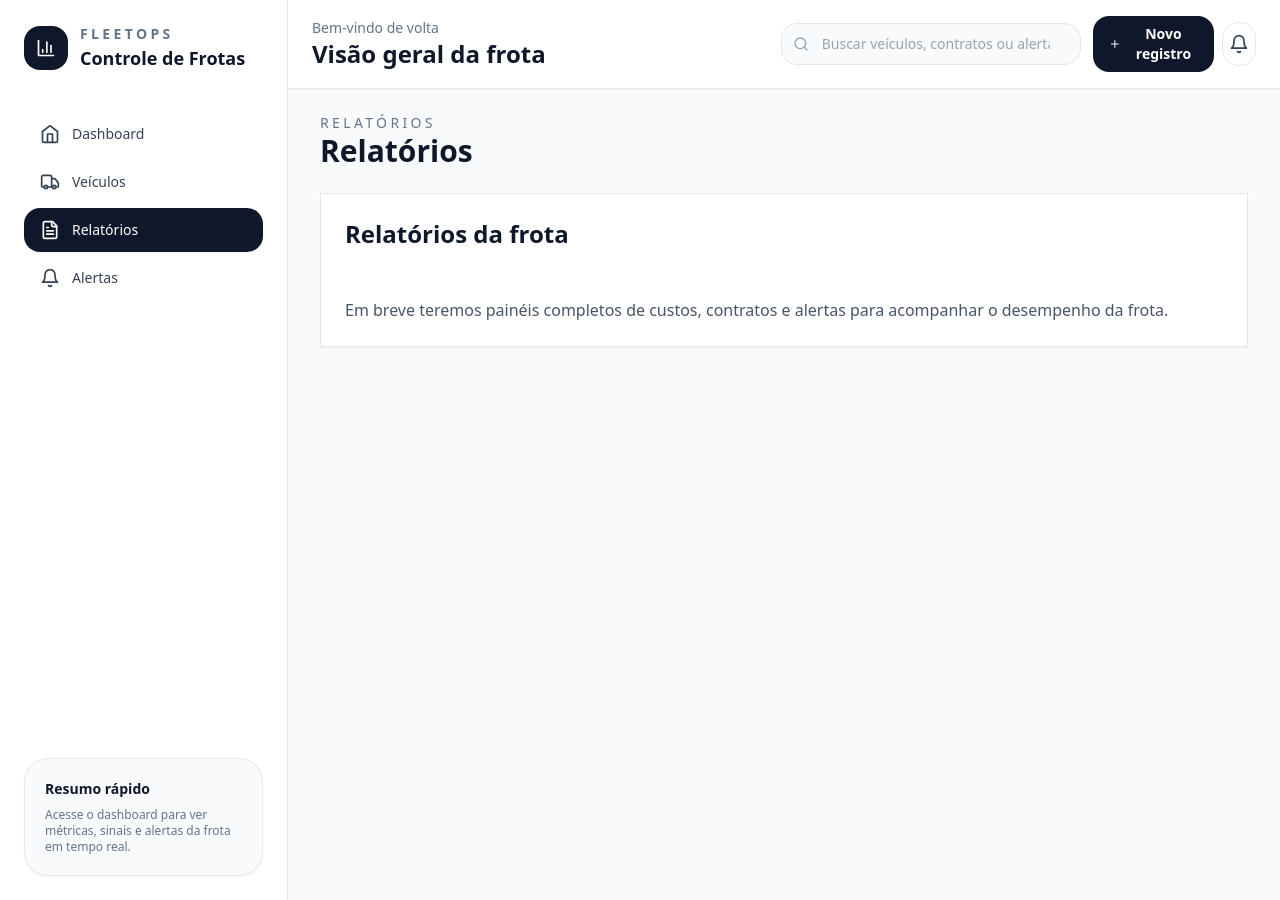
App layout and routing › navega da página de relatórios para alertas pelo menu lateral
Click the link "Alertas" at (79, 278), box [40, 268, 118, 288]
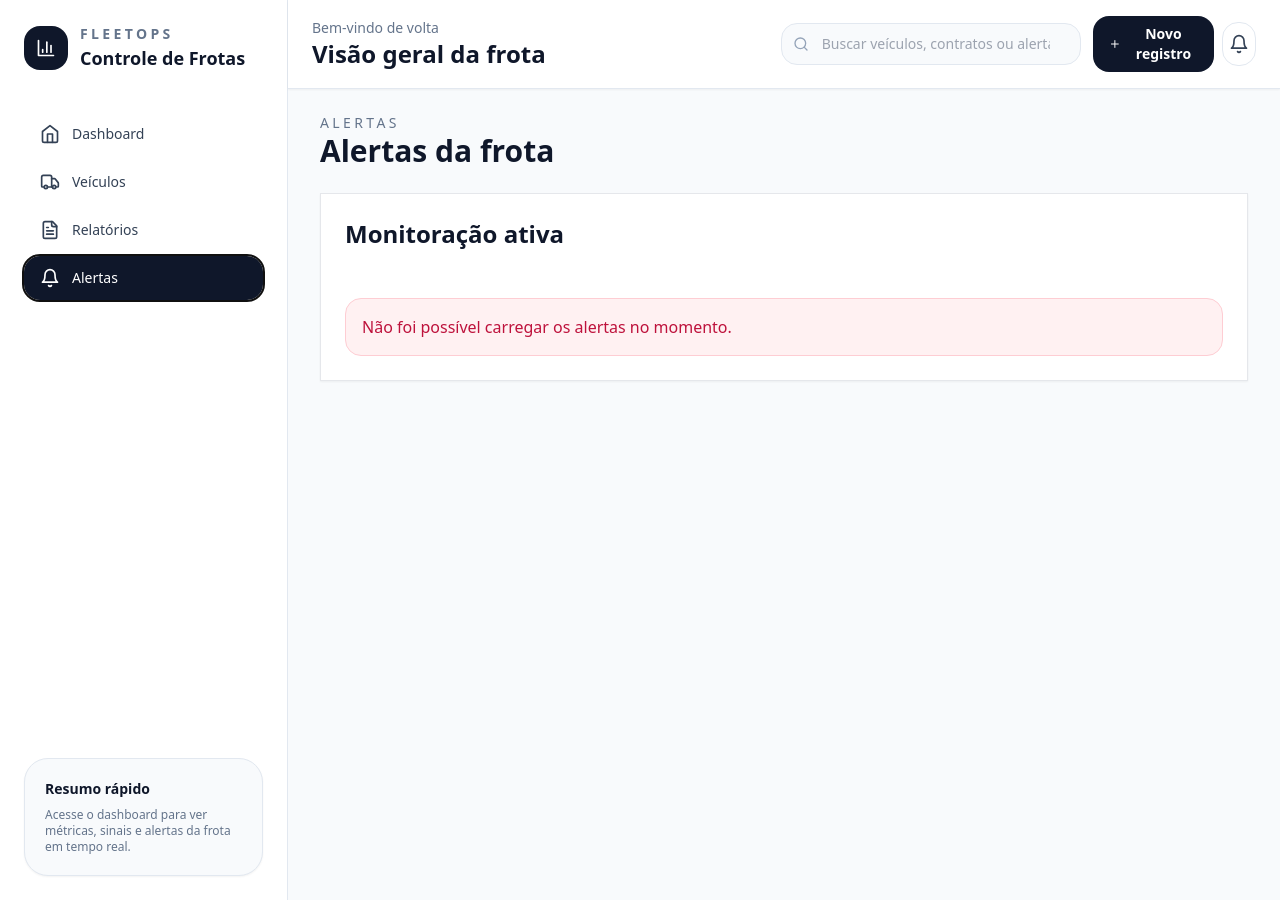
Expected: the heading "Alertas da frota" is shown, [320, 130, 554, 171]
